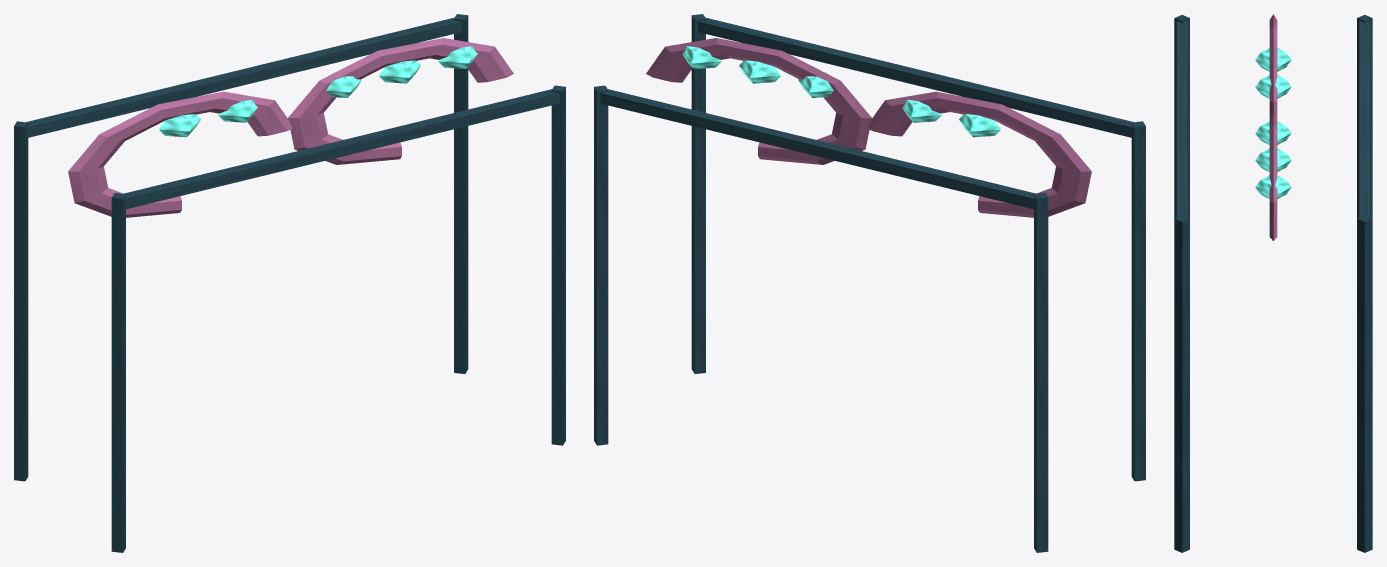
The model's file is atlas100-s061-a08.lod2.glb.
3 renders of one model, left to right at view 1: azimuth 30°, elevation 25°; view 2: azimuth 150°, elevation 25°; view 3: azimuth 270°, elevation 25°, orthographic. The views are drawn at different scales.
Parts seen in each view (by area): view 1: atlas100-s061-a08:part-009, atlas100-s061-a08:part-008, atlas100-s061-a08:part-010, atlas100-s061-a08:part-014, atlas100-s061-a08:part-002, atlas100-s061-a08:part-000, atlas100-s061-a08:part-006, atlas100-s061-a08:part-004, atlas100-s061-a08:part-012, atlas100-s061-a08:part-016; view 2: atlas100-s061-a08:part-008, atlas100-s061-a08:part-009, atlas100-s061-a08:part-010, atlas100-s061-a08:part-014, atlas100-s061-a08:part-000, atlas100-s061-a08:part-002, atlas100-s061-a08:part-004, atlas100-s061-a08:part-006, atlas100-s061-a08:part-012, atlas100-s061-a08:part-016; view 3: atlas100-s061-a08:part-004, atlas100-s061-a08:part-006, atlas100-s061-a08:part-008, atlas100-s061-a08:part-009, atlas100-s061-a08:part-000, atlas100-s061-a08:part-002, atlas100-s061-a08:part-014, atlas100-s061-a08:part-010, atlas100-s061-a08:part-017, atlas100-s061-a08:part-013, atlas100-s061-a08:part-012, atlas100-s061-a08:part-015 (+1 smaller).
Boxes of the visible parts, box(x1,y1,x2,y2) form: atlas100-s061-a08:part-009: box(124, 89, 559, 209); atlas100-s061-a08:part-008: box(26, 17, 461, 138); atlas100-s061-a08:part-010: box(68, 91, 292, 217); atlas100-s061-a08:part-014: box(288, 38, 513, 164); atlas100-s061-a08:part-002: box(111, 193, 125, 552); atlas100-s061-a08:part-000: box(14, 121, 28, 481); atlas100-s061-a08:part-006: box(551, 85, 565, 445); atlas100-s061-a08:part-004: box(454, 14, 468, 373); atlas100-s061-a08:part-012: box(159, 114, 200, 137); atlas100-s061-a08:part-016: box(379, 60, 420, 83); atlas100-s061-a08:part-008: box(600, 89, 1035, 209); atlas100-s061-a08:part-009: box(698, 17, 1133, 138); atlas100-s061-a08:part-010: box(867, 91, 1091, 217); atlas100-s061-a08:part-014: box(646, 38, 871, 164); atlas100-s061-a08:part-000: box(1034, 193, 1048, 552); atlas100-s061-a08:part-002: box(1131, 121, 1145, 481); atlas100-s061-a08:part-004: box(594, 85, 608, 445); atlas100-s061-a08:part-006: box(691, 14, 705, 373); atlas100-s061-a08:part-012: box(959, 114, 1000, 137); atlas100-s061-a08:part-016: box(739, 60, 780, 83); atlas100-s061-a08:part-004: box(1357, 215, 1372, 552); atlas100-s061-a08:part-006: box(1174, 215, 1189, 552); atlas100-s061-a08:part-008: box(1359, 21, 1370, 217); atlas100-s061-a08:part-009: box(1176, 21, 1187, 217); atlas100-s061-a08:part-000: box(1357, 15, 1372, 218); atlas100-s061-a08:part-002: box(1174, 15, 1189, 218); atlas100-s061-a08:part-014: box(1269, 114, 1277, 240); atlas100-s061-a08:part-010: box(1269, 14, 1277, 119); atlas100-s061-a08:part-017: box(1255, 175, 1291, 198); atlas100-s061-a08:part-013: box(1255, 75, 1291, 98); atlas100-s061-a08:part-012: box(1255, 48, 1291, 71); atlas100-s061-a08:part-015: box(1255, 121, 1291, 144).
Bounding box in the file's own units: 5.37 × 4.39 × 2.17.
Materials: 3 (3 with a texture image).
